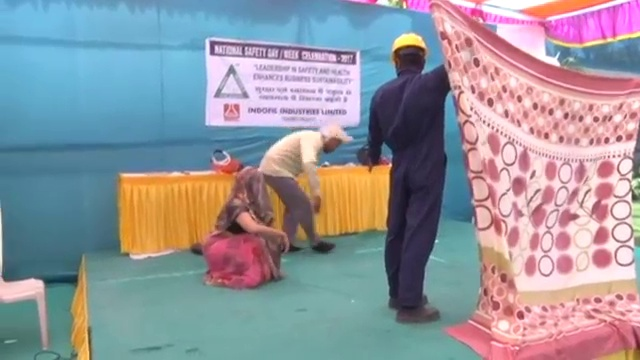helmet: (389, 32, 429, 63)
helmet_off: (235, 165, 265, 200), (320, 121, 344, 157)
helmet_on: (388, 31, 430, 81)
person: (367, 32, 450, 328), (260, 120, 352, 254), (203, 165, 289, 289)
